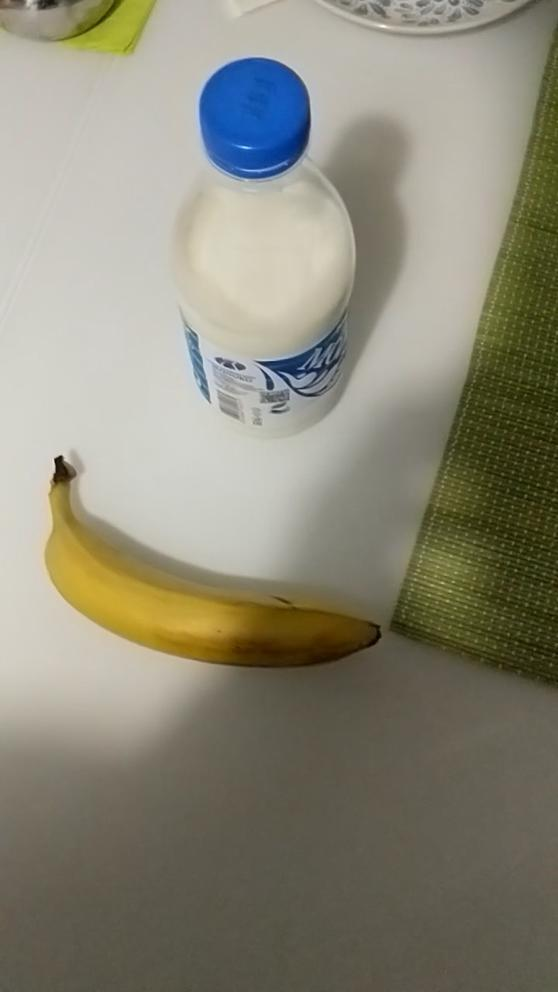banana: (32, 446, 398, 693)
milk: (151, 56, 377, 444)
